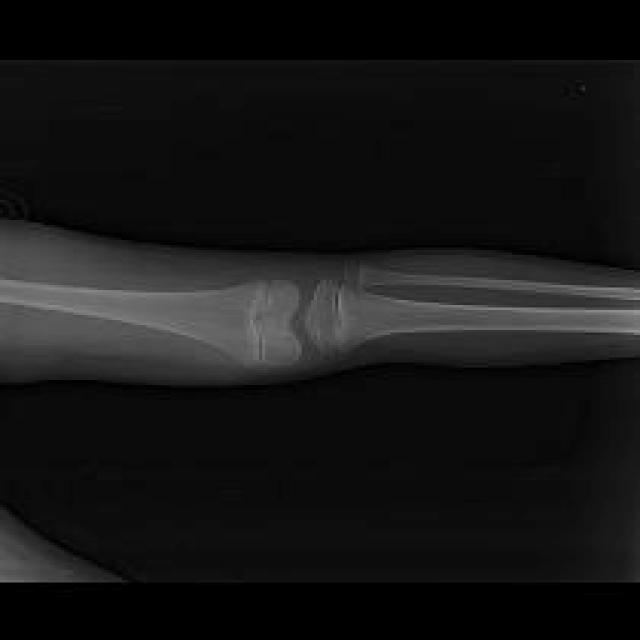normal: (0, 277, 296, 365), (311, 279, 639, 353), (347, 267, 637, 300)
